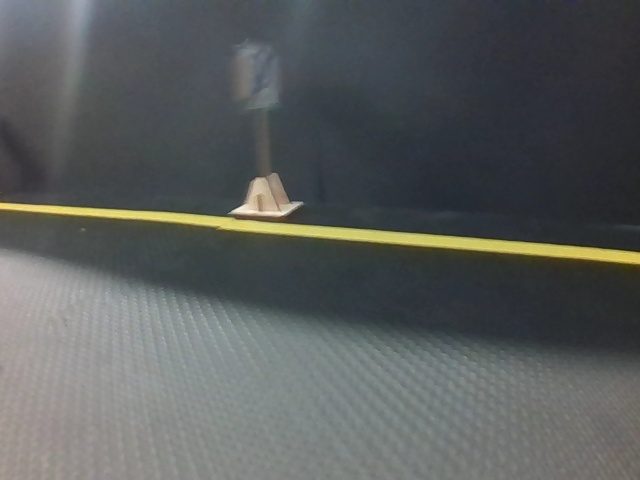no30: (243, 45, 276, 112)
